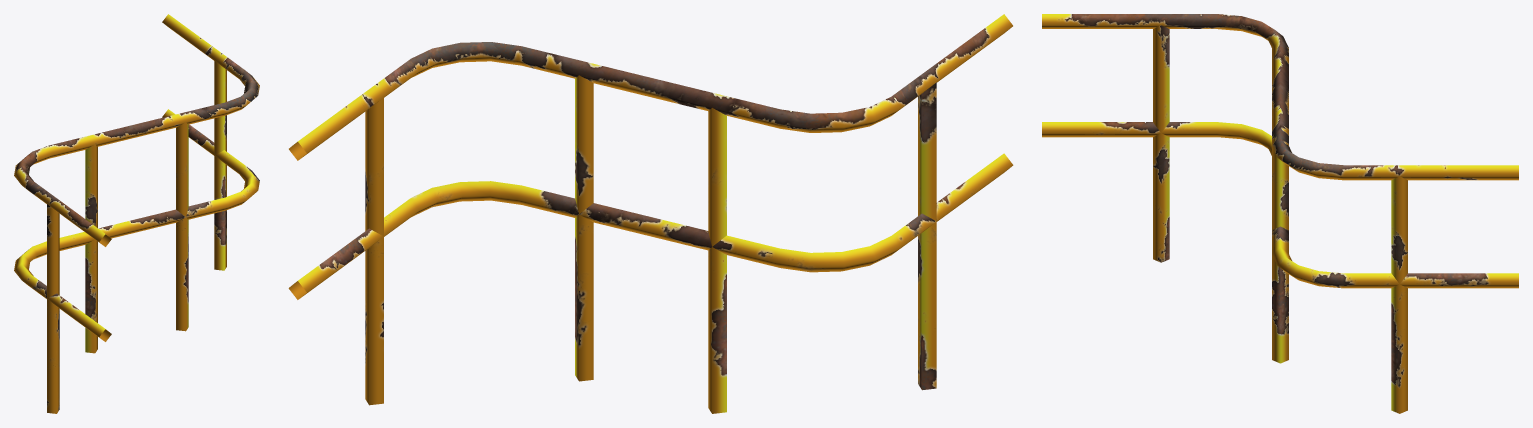
The model's file is safetyRail_corner03.fbx.
3 renders of one model, left to right at view 1: azimuth 30°, elevation 25°; view 2: azimuth 150°, elevation 25°; view 3: azimuth 270°, elevation 25°, orthographic. The views are drawn at different scales.
Parts seen in each view (by area): view 1: safetyRail_corner03; view 2: safetyRail_corner03; view 3: safetyRail_corner03.
Boxes of the visible parts, box(x1,y1,x2,y2) form: safetyRail_corner03: box(14, 14, 259, 413); safetyRail_corner03: box(288, 14, 1013, 413); safetyRail_corner03: box(1042, 14, 1518, 413).
Size of the model in its own units: 157 by 113 by 200.
